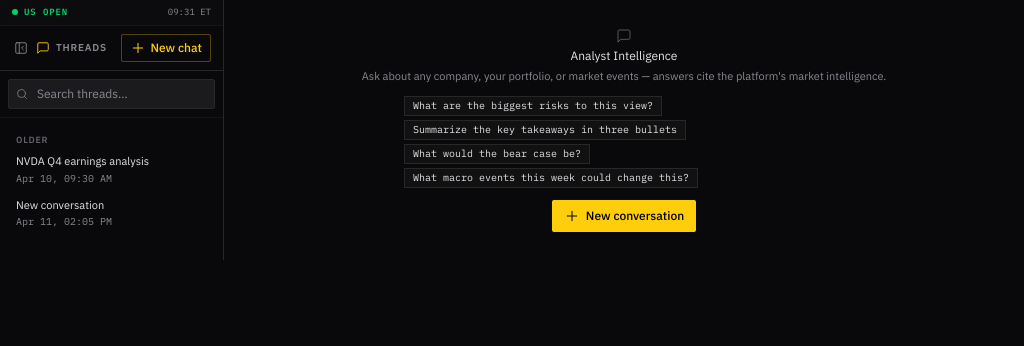
Scenario: Chat page — Round 3 polish (welcome + skeletons) › clicking a welcome starter chip starts a new chat with the prompt pre-filled
The width and height of the screenshot is (1024, 346).
Click the button "What are the biggest risks to this view?": (533, 106) [404,96,662,116]
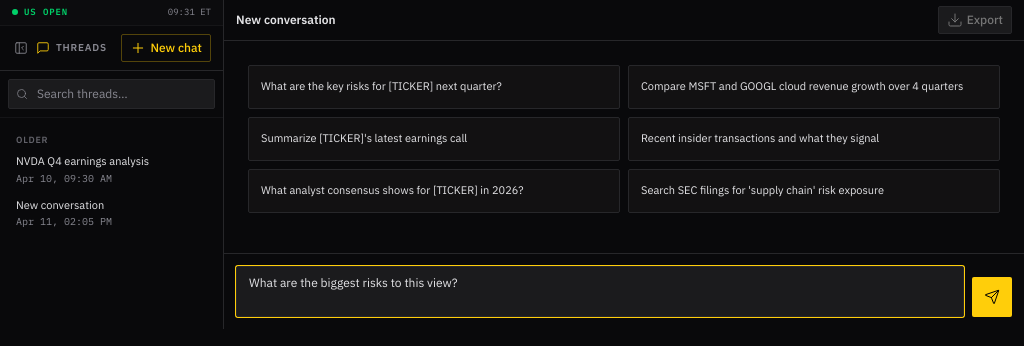
Expected: the text box named "chat message input" holds "What are the biggest risks to this view?", [236,266,964,317]
